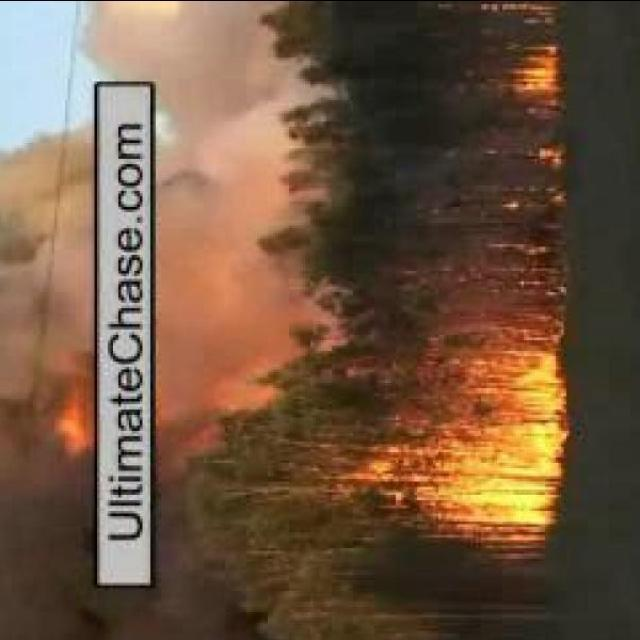Fire: (350, 338, 566, 542), (453, 189, 571, 307), (519, 47, 559, 108), (62, 396, 92, 458), (497, 1, 554, 25), (545, 137, 567, 168)
